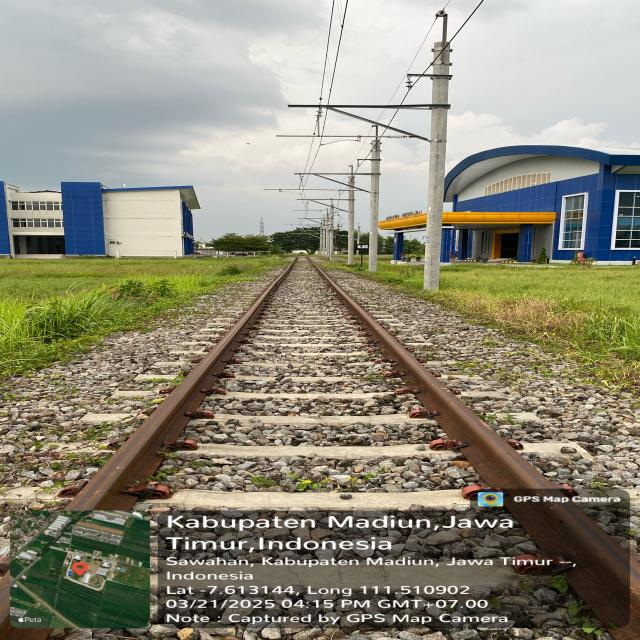rail-detection: (308, 260, 640, 640), (65, 261, 296, 511)
